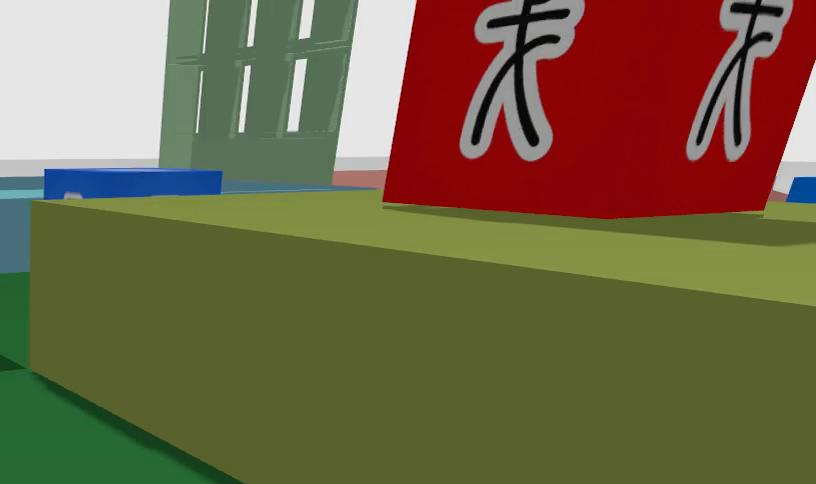KFS_FAKE: (384, 0, 815, 218), (460, 0, 584, 161), (686, 0, 792, 161)
